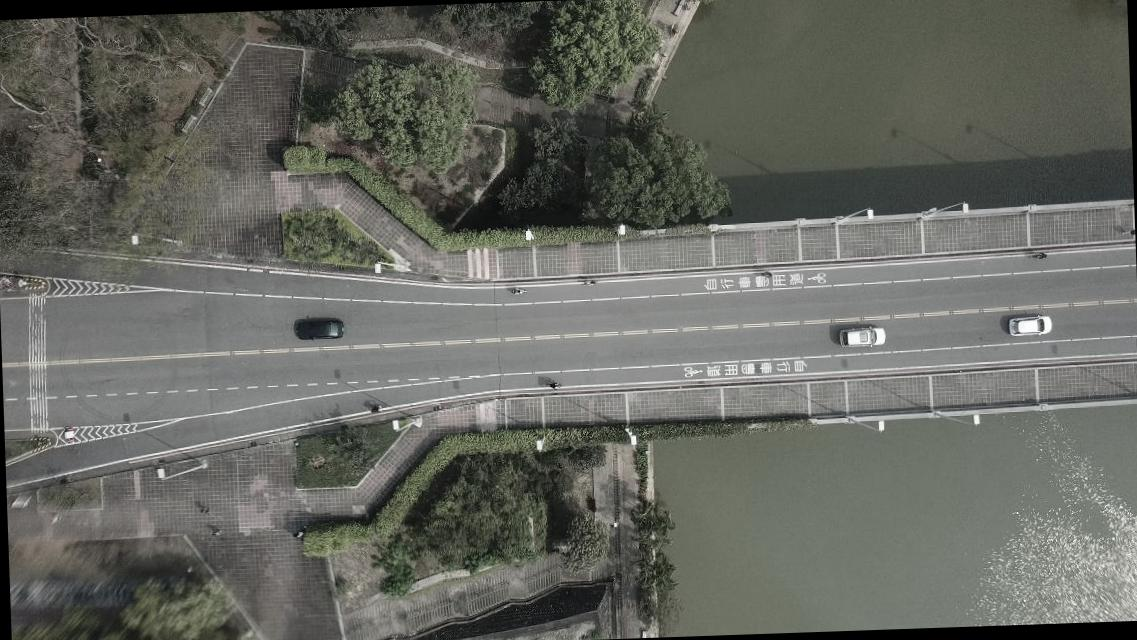vehicle: (292, 316, 342, 340), (838, 325, 885, 348), (1006, 313, 1051, 336)
